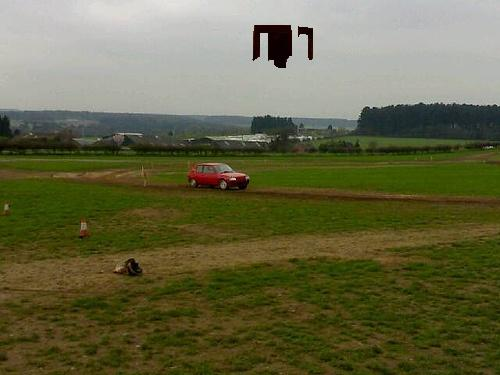tampered: (253, 26, 313, 68)
